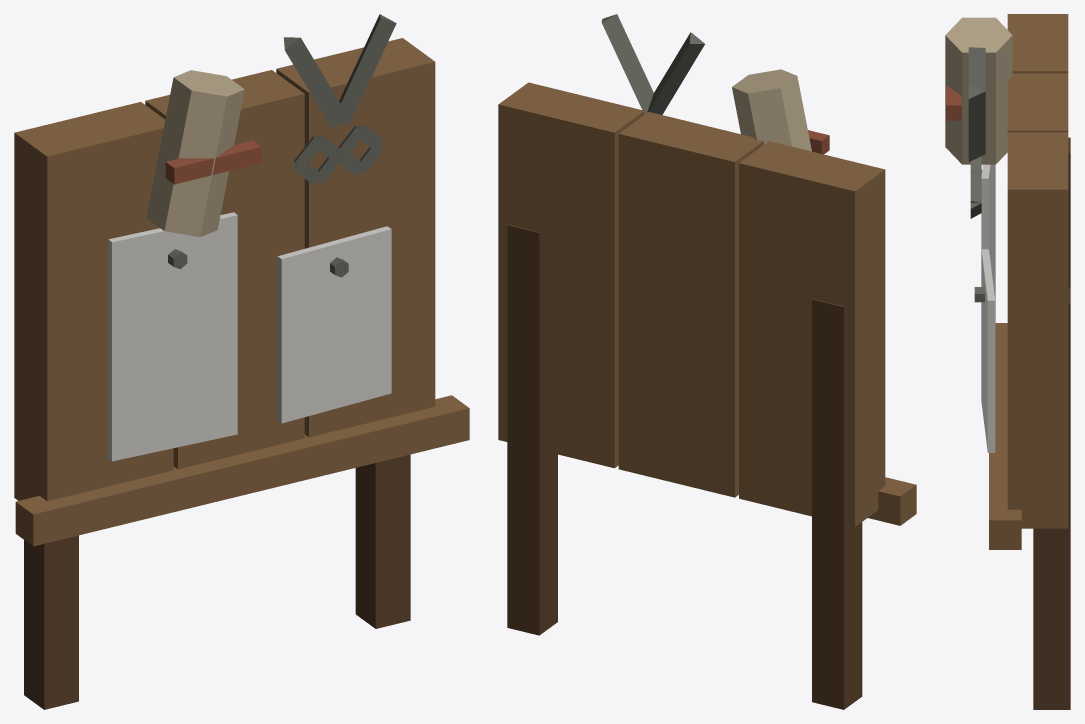
The model's file is tailor-board.glb.
The picture shows the model from 3 angles, left to right: view 1: azimuth 30°, elevation 25°; view 2: azimuth 150°, elevation 25°; view 3: azimuth 270°, elevation 25°; orthographic projection. The views are drawn at different scales.
Parts seen in each view (by area): view 1: tailor-board; view 2: tailor-board; view 3: tailor-board.
Part boxes in pixels (left/top/right/bottom): tailor-board: left=14, top=14, right=469, bottom=709; tailor-board: left=498, top=14, right=916, bottom=709; tailor-board: left=945, top=14, right=1070, bottom=709.
Size of the model in its own units: 0.5 by 0.705 by 0.134.
